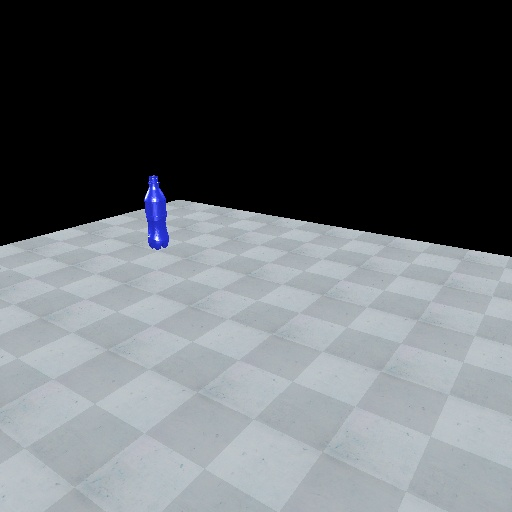bottle: (141, 171, 171, 250)
